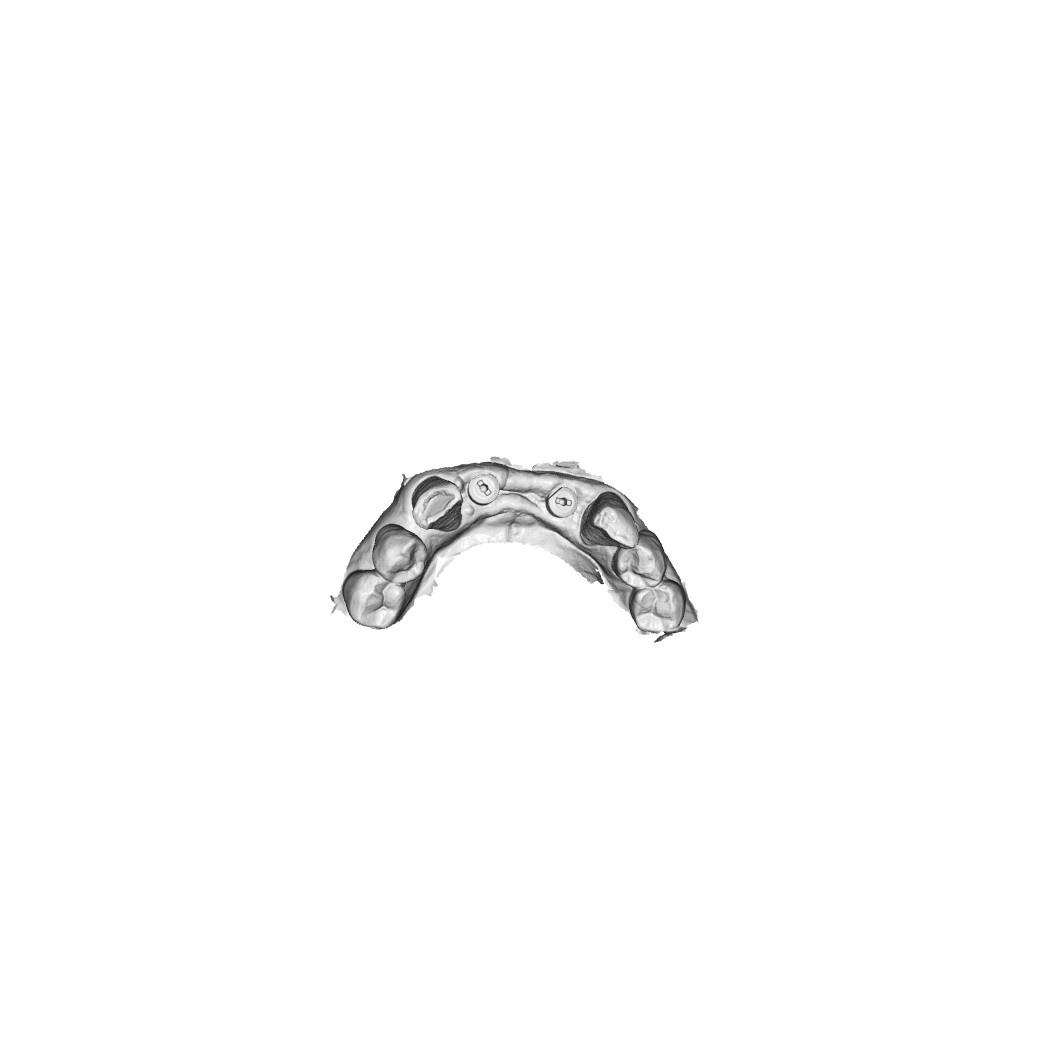canine: (582, 492, 642, 552), (405, 474, 461, 530)
implant_minus: (467, 470, 502, 509), (546, 483, 576, 518)
premolar: (341, 569, 403, 631), (367, 522, 428, 585), (627, 581, 687, 635), (614, 534, 666, 590)
